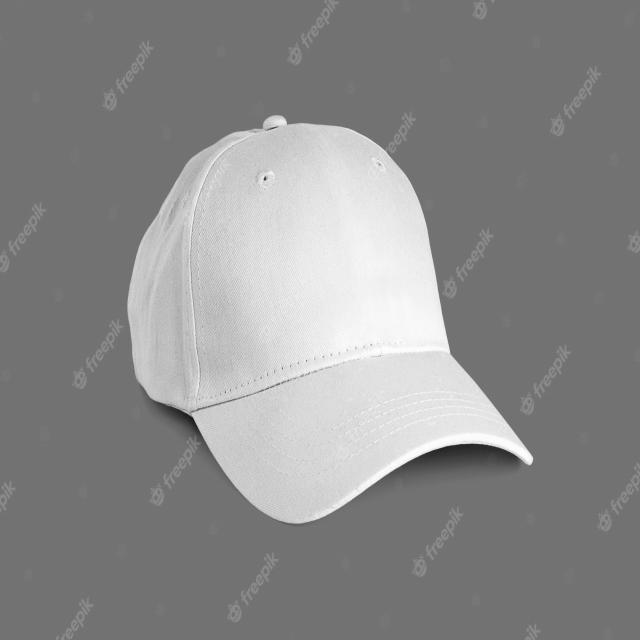Cap: (111, 88, 554, 604)
